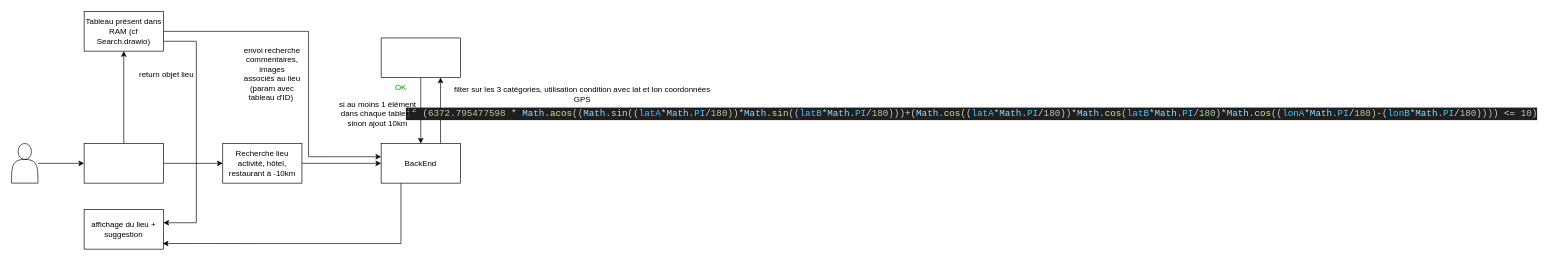
This 1549x261 diagram has some shape labels left out. The box of each missing label's shape, as (x1, y1, x2, y2) in pixels:
BDD: (380, 37, 460, 78)
Sélection d'un lieu: (83, 143, 163, 183)
